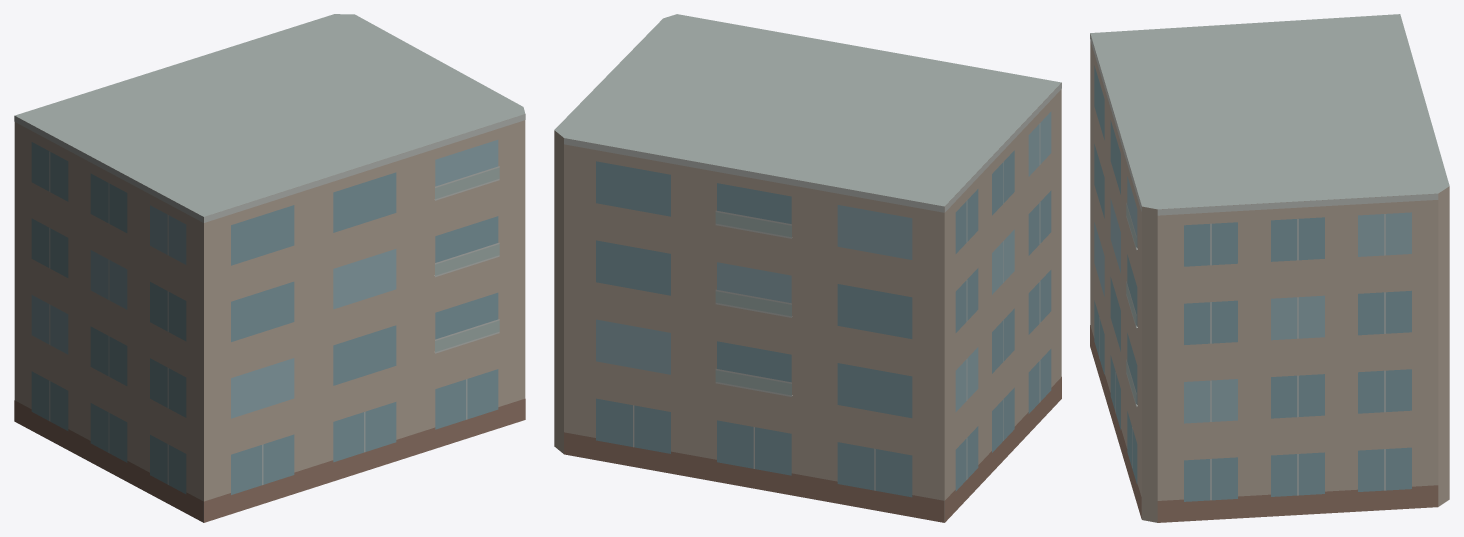
File: survey-upis-32577175.glb
3 views of the same model, side by side, from view 1: azimuth 30°, elevation 25°; view 2: azimuth 150°, elevation 25°; view 3: azimuth 270°, elevation 25° (orthographic). The views are drawn at different scales.
Parts seen in each view (by area): view 1: survey-upis-32577175.tmp; view 2: survey-upis-32577175.tmp; view 3: survey-upis-32577175.tmp.
Boxes of the visible parts, x1=… form: survey-upis-32577175.tmp: x1=14, y1=14, x2=525, y2=522; survey-upis-32577175.tmp: x1=554, y1=14, x2=1061, y2=522; survey-upis-32577175.tmp: x1=1090, y1=14, x2=1449, y2=522.
Size of the model in its own units: 16.31 by 12.2 by 12.69.
